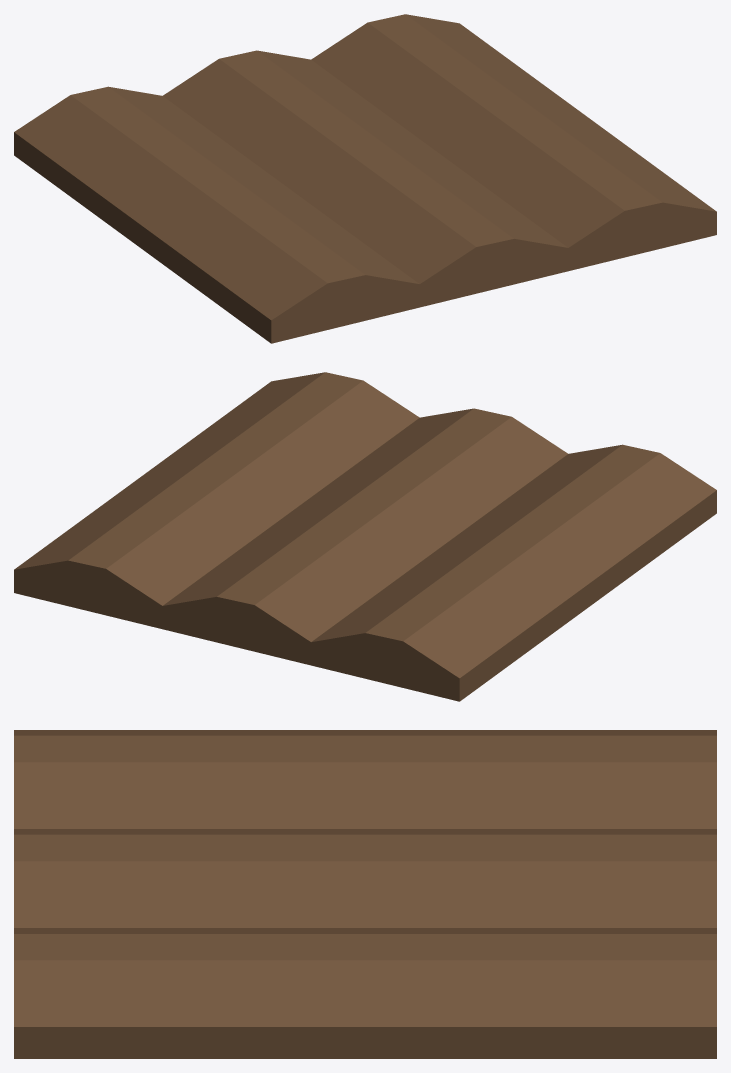
Rendered from ploughed_tile.glb.
The picture shows the model from 3 angles, top to bottom: view 1: azimuth 30°, elevation 25°; view 2: azimuth 150°, elevation 25°; view 3: azimuth 270°, elevation 25°; orthographic projection. The views are drawn at different scales.
Visible parts, largest first — view 1: Ploughed tile; view 2: Ploughed tile; view 3: Ploughed tile.
Boxes of the visible parts, bbox=[...] form: Ploughed tile: bbox=[14, 14, 716, 343]; Ploughed tile: bbox=[14, 372, 716, 701]; Ploughed tile: bbox=[14, 730, 716, 1058].
Bounding box in the file's own units: 1 × 0.1 × 1.
